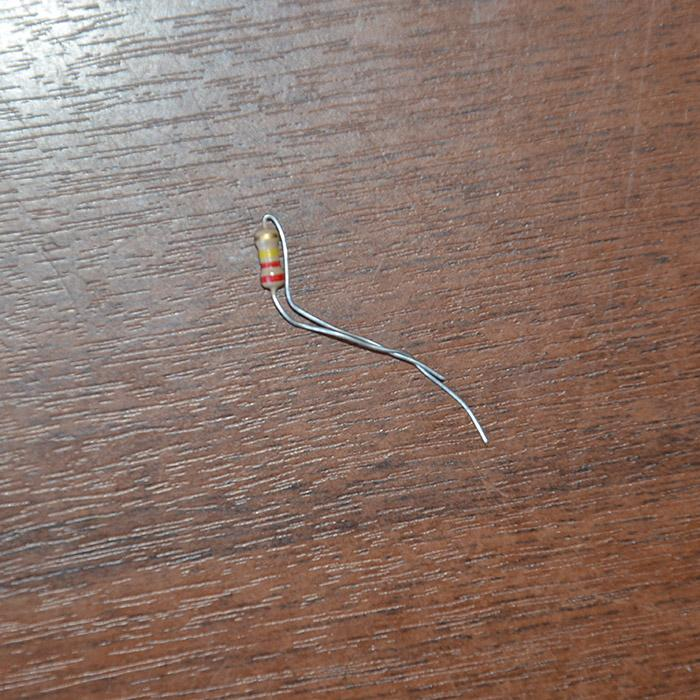resistor: (252, 220, 285, 291)
